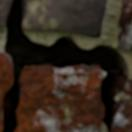brick: (112, 82, 131, 131), (119, 0, 131, 52)
broken_brick: (19, 66, 104, 131), (24, 0, 108, 38), (0, 52, 11, 109), (0, 0, 8, 28)
crack: (0, 0, 131, 131)
